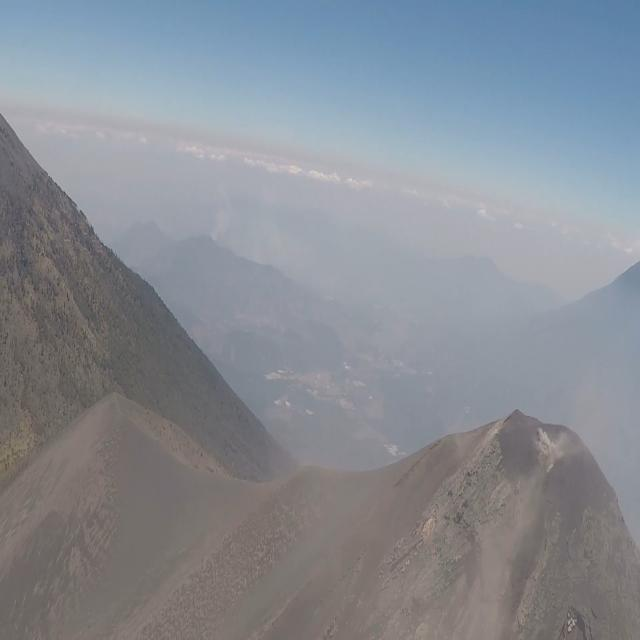Plume: (534, 420, 560, 478)
Summit: (296, 382, 640, 632)
